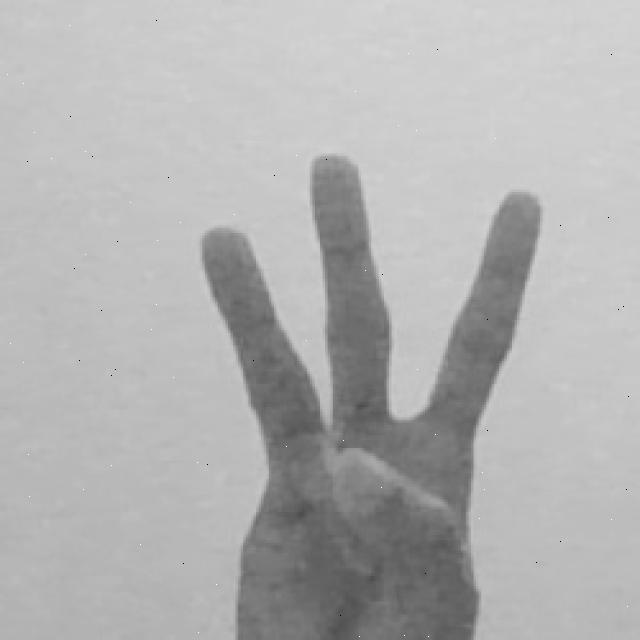W: (197, 143, 556, 640)
